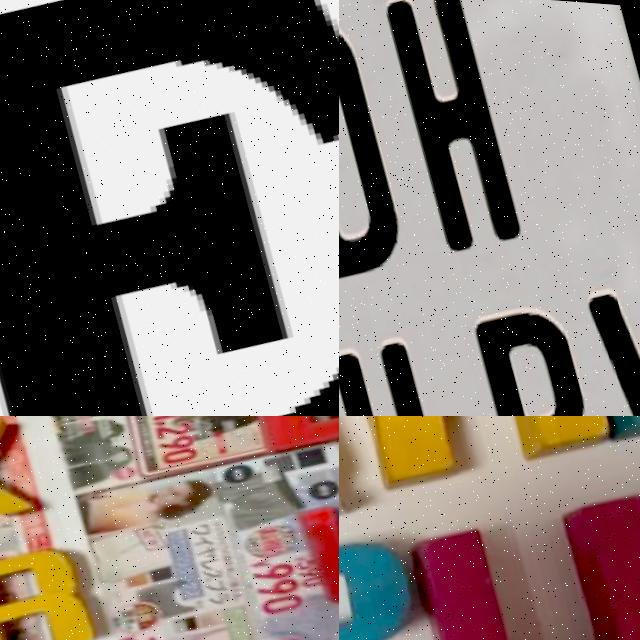B: (460, 284, 637, 416)
D: (339, 0, 423, 278)
H: (369, 0, 533, 251), (339, 327, 486, 416)
P: (339, 506, 453, 640)
R: (339, 416, 614, 495), (0, 532, 97, 640)
U: (398, 459, 640, 640)
V: (578, 259, 640, 416)
W: (299, 459, 339, 610)
X: (0, 416, 46, 546)
